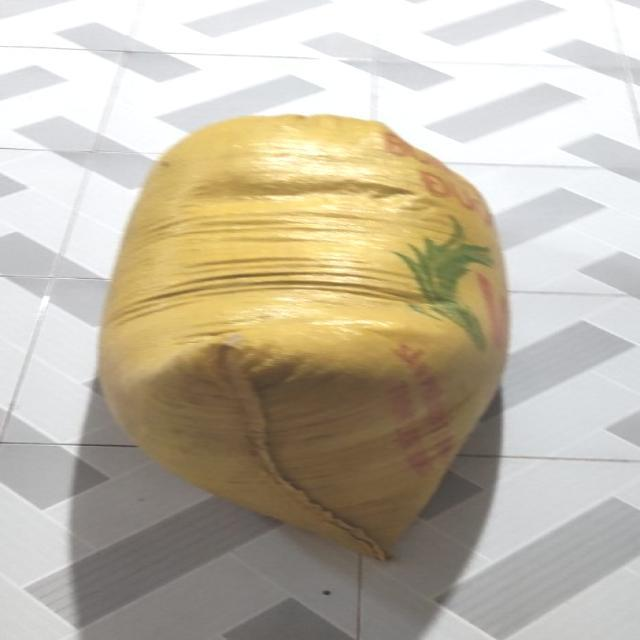gunny_bag: (99, 115, 508, 561)
